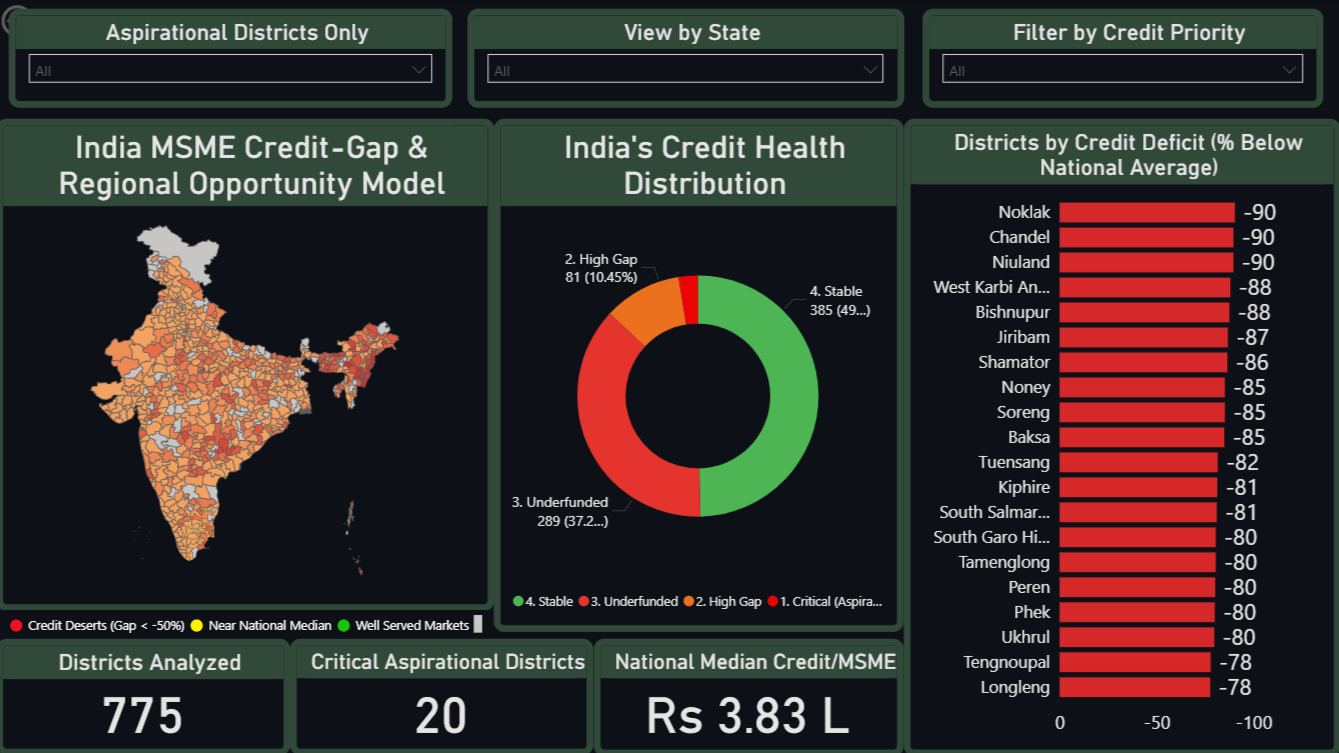

The page's visual inventory and layout, read from the dashboard file:
{"tool":"powerbi","page":{"name":"Page 1","canvas":[1280,720],"ordinal":0},"visuals":[{"type":"card","title":"Districts Analyzed","fields":{"Values":["CountNonNull(Indian_MSME_Credit_Gap_2026.District)"]},"box":[0,608.6,280,111.4],"z":0},{"type":"clusteredBarChart","title":"Districts by Credit Deficit (% Below National Average)","fields":{"Category":["Indian_MSME_Credit_Gap_2026.District"],"Y":["Sum(Indian_MSME_Credit_Gap_2026.Gap_Percentage)"]},"box":[864.3,112.9,415.7,607.1],"z":1000},{"type":"shapeMap","title":"India MSME Credit-Gap & Regional Opportunity Model","fields":{"Value":["Sum(Indian_MSME_Credit_Gap_2026.Gap_Percentage)"],"Category":["Indian_MSME_Credit_Gap_2026.District"]},"box":[0,112.9,474.3,468.6],"z":2000},{"type":"actionButton","box":[0,0,100,40],"z":3000},{"type":"slicer","title":"View by State","fields":{"Values":["Indian_MSME_Credit_Gap_2026.State"]},"box":[448.7,8.2,415.8,94.7],"z":4000},{"type":"slicer","title":"Aspirational Districts Only","fields":{"Values":["Indian_MSME_Credit_Gap_2026.Is_Aspirational"]},"box":[12.3,8.2,422.6,94.7],"z":5000},{"type":"slicer","title":"Filter by Credit Priority","fields":{"Values":["Indian_MSME_Credit_Gap_2026.Priority_Level"]},"box":[882.3,8.2,381.5,94.7],"z":6000},{"type":"card","title":"Critical Aspirational Districts","fields":{"Values":["CountNonNull(Indian_MSME_Credit_Gap_2026.District)"]},"box":[280,608.6,288.6,111.4],"z":7000},{"type":"card","title":"National Median Credit/MSME","fields":{"Values":["Median(Indian_MSME_Credit_Gap_2026.Credit_Lakh_Msme)"]},"box":[569.1,608.3,295.2,111.9],"z":8000},{"type":"donutChart","title":"India''s Credit Health Distribution","fields":{"Category":["Indian_MSME_Credit_Gap_2026.Priority_Level"],"Y":["CountNonNull(Indian_MSME_Credit_Gap_2026.Priority_Level)"]},"box":[474.3,112.9,390,488.6],"z":9000},{"type":"textbox","box":[5.7,581.4,461.4,27.1],"z":13000}]}

Visuals, with their boxes in screenshot pixels (x1, y1, x2, y2), scaled from the page's 1280x720 canvas onto the 1339x753 screenshot:
"Districts Analyzed" card: box=[0, 636, 293, 752]
"Districts by Credit Deficit (% Below National Average)" clusteredBarChart: box=[904, 118, 1338, 752]
"India MSME Credit-Gap & Regional Opportunity Model" shapeMap: box=[0, 118, 496, 608]
actionButton: box=[0, 0, 105, 42]
"View by State" slicer: box=[469, 9, 904, 108]
"Aspirational Districts Only" slicer: box=[13, 9, 455, 108]
"Filter by Credit Priority" slicer: box=[923, 9, 1322, 108]
"Critical Aspirational Districts" card: box=[293, 636, 595, 752]
"National Median Credit/MSME" card: box=[595, 636, 904, 752]
"India''s Credit Health Distribution" donutChart: box=[496, 118, 904, 629]
textbox: box=[6, 608, 489, 636]
